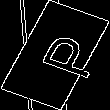P_NW: (16, 28, 94, 82)
